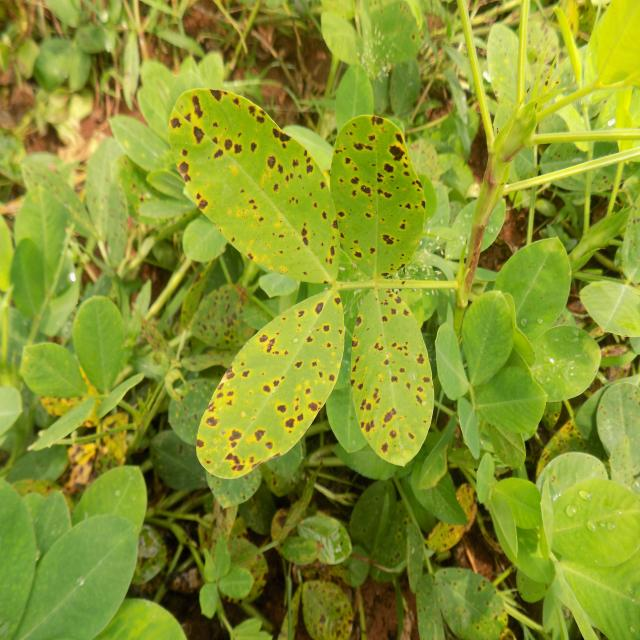Ground nut_healthy: (15, 517, 141, 640), (494, 232, 576, 355), (548, 468, 640, 562), (66, 459, 145, 556), (15, 184, 69, 307), (517, 326, 602, 404), (78, 297, 130, 401), (460, 294, 516, 389), (581, 277, 640, 344), (596, 369, 636, 464), (384, 55, 422, 115), (455, 393, 486, 457), (219, 560, 254, 605)
Ground nut_tikka leaf spot: (168, 84, 336, 290), (193, 286, 348, 479), (331, 120, 443, 278), (350, 288, 441, 472)
